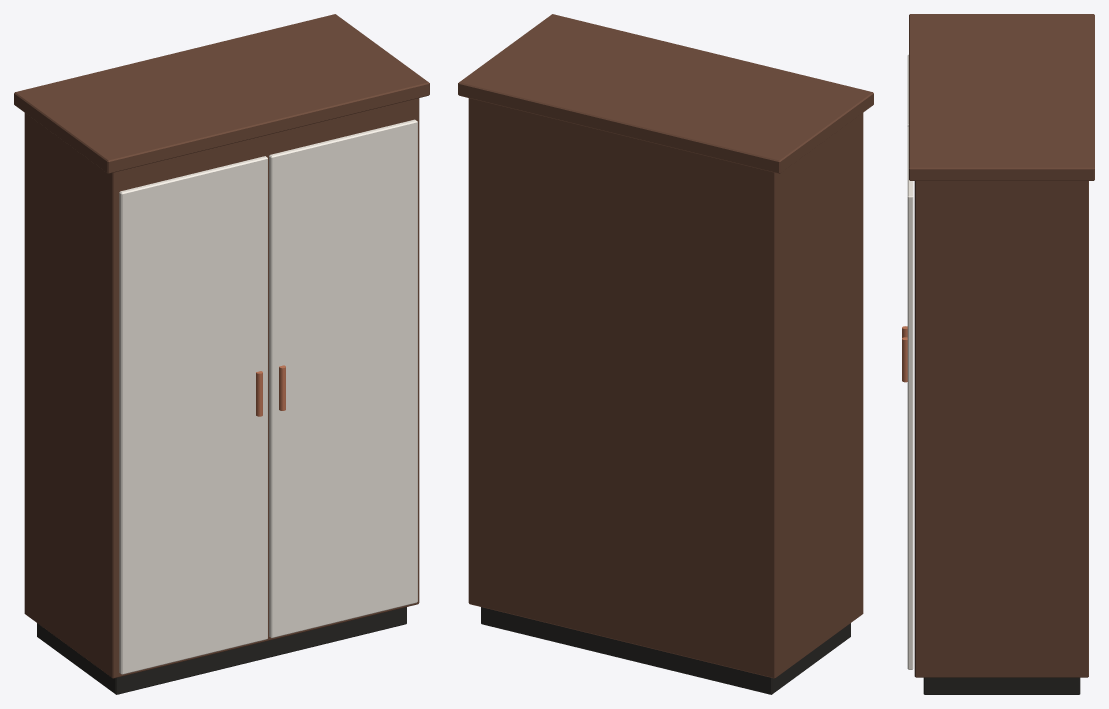
Rendered from sc_wardrobe.glb.
3 renders of one model, left to right at view 1: azimuth 30°, elevation 25°; view 2: azimuth 150°, elevation 25°; view 3: azimuth 270°, elevation 25°, orthographic.
Visible parts, largest first — view 1: wardrobe; view 2: wardrobe; view 3: wardrobe.
Boxes of the visible parts, <box> form: wardrobe: <box>14,14,429,694</box>; wardrobe: <box>458,14,873,694</box>; wardrobe: <box>902,14,1094,694</box>.
Size of the model in its own units: 1.26 by 2.03 by 0.664.
